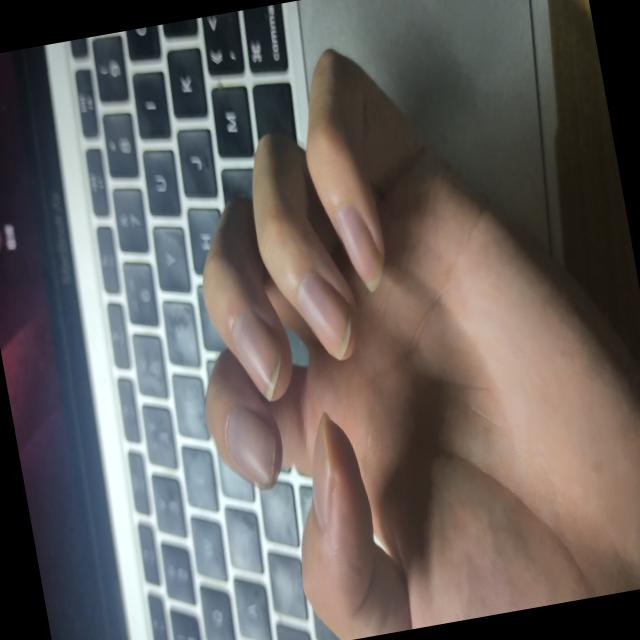Nail: (297, 268, 349, 357), (232, 311, 280, 400), (336, 202, 380, 289), (227, 406, 274, 486), (311, 413, 334, 527)
